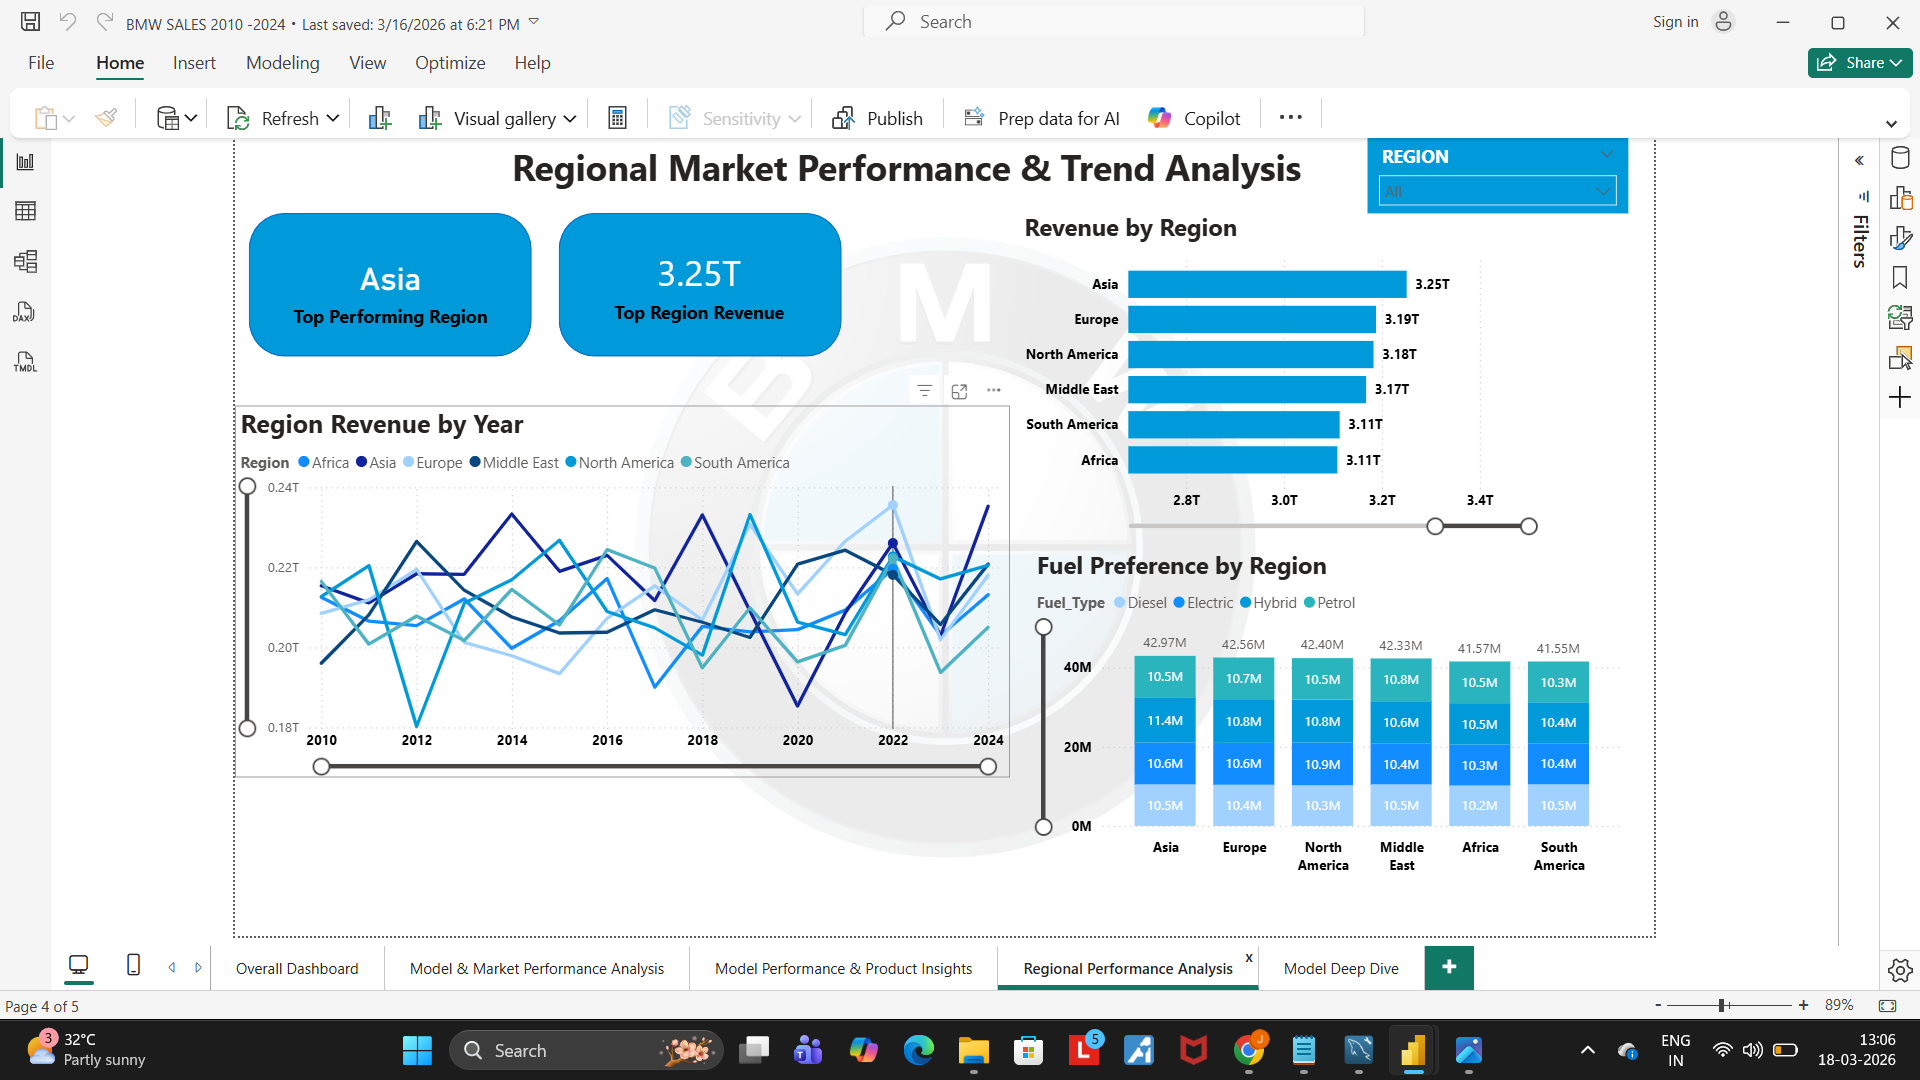

The page's visual inventory and layout, read from the dashboard file:
{"tool":"powerbi","page":{"name":"Regional Performance Analysis","canvas":[1280,720],"ordinal":3},"visuals":[{"type":"image","box":[294.3,89.5,692.5,559.8],"z":0},{"type":"card","fields":{"Values":["Measure.Top Performing Region"]},"box":[36.1,85.1,206.3,93.8],"z":1000},{"type":"shape","box":[12.4,67.2,255,129.4],"z":2000},{"type":"shape","box":[292.3,67.2,255,129.4],"z":3000},{"type":"card","fields":{"Values":["Measure.Top Performing Region"]},"box":[37.5,89.5,206.3,93.8],"z":4000},{"type":"card","fields":{"Values":["Measure.Top Region Revenue"]},"box":[316,85.1,206.3,93.8],"z":5000},{"type":"lineChart","title":"Region Revenue by Year","fields":{"Category":["BMW_Data.Year"],"Series":["BMW_Data.Region"],"Y":["Measure.Total Revenue"]},"box":[0,240.9,698.3,336.2],"z":6000},{"type":"clusteredBarChart","title":"Revenue by Region","fields":{"Category":["BMW_Data.Region"],"Y":["Measure.Total Revenue"]},"box":[707,64.9,549.7,295.8],"z":6001},{"type":"columnChart","title":"Fuel Preference by Region","fields":{"Category":["BMW_Data.Region"],"Series":["BMW_Data.Fuel_Type"],"Y":["Measure.Total Sales Volume"]},"box":[718.5,369.3,538.2,301.5],"z":6002},{"type":"textbox","box":[242.6,0,726.5,64.7],"z":6003},{"type":"slicer","fields":{"Values":["BMW_Data.Region"]},"box":[1021.5,0,235.2,67.8],"z":6004}]}

Visuals, with their boxes on the page's 1280x720 design canvas (x1, y1, x2, y2). These are canvas units, not pixel positions in the 1920x1080 screenshot, which may show the page scaled, cropped or inside an application window:
image: 294, 90, 987, 649
card - Measure.Top Performing Region: 36, 85, 242, 179
shape: 12, 67, 267, 197
shape: 292, 67, 547, 197
card - Measure.Top Performing Region: 38, 90, 244, 183
card - Measure.Top Region Revenue: 316, 85, 522, 179
"Region Revenue by Year" lineChart: 0, 241, 698, 577
"Revenue by Region" clusteredBarChart: 707, 65, 1257, 361
"Fuel Preference by Region" columnChart: 718, 369, 1257, 671
textbox: 243, 0, 969, 65
slicer - BMW_Data.Region: 1022, 0, 1257, 68
